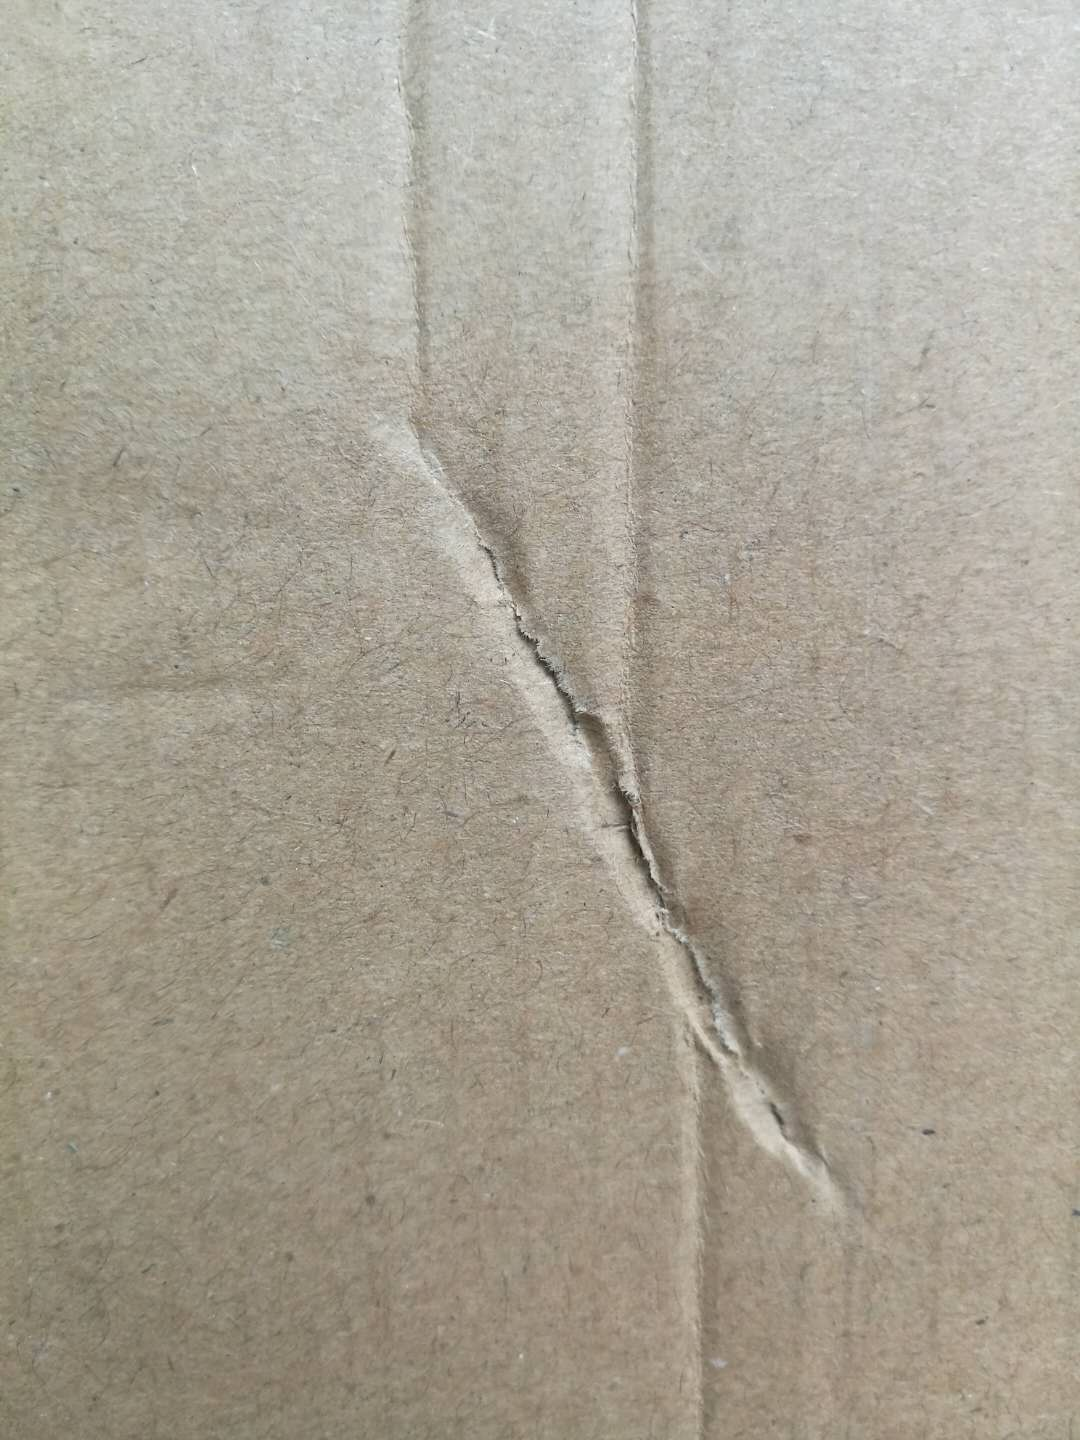defect: (382, 393, 952, 1313), (566, 1, 859, 1440), (362, 1, 505, 545)
